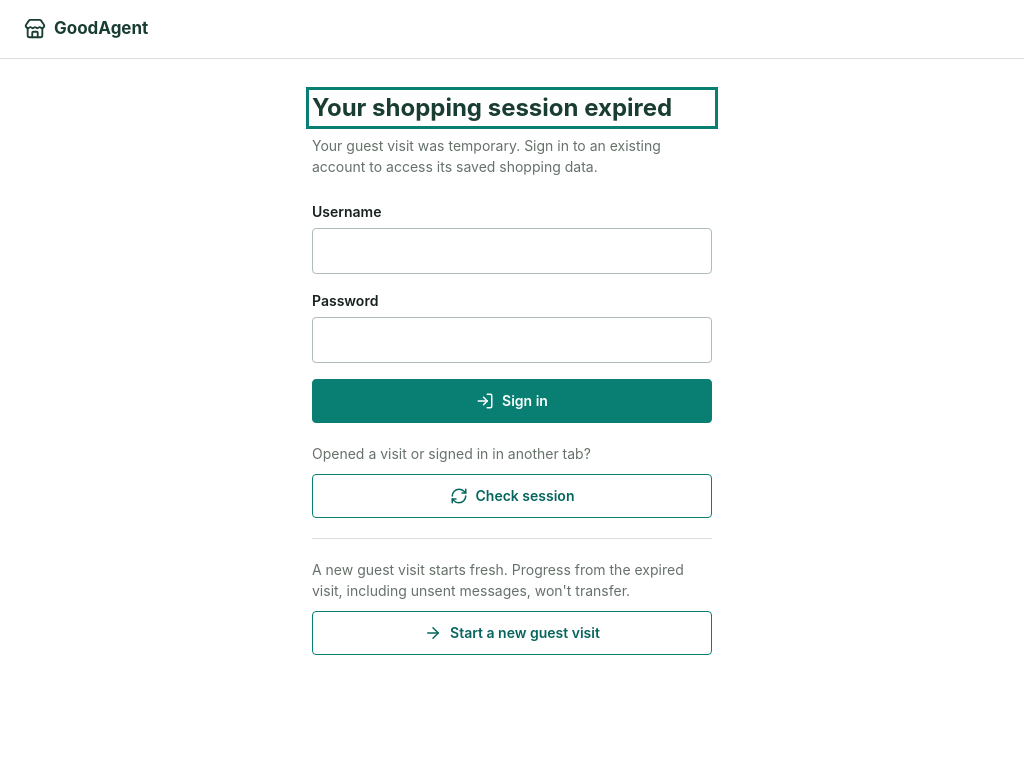
it: SessionRecovery › uses only the finite local conflict type, not message matching ({})
The image size is (1024, 768).
Click the button "Start a new guest visit": click(512, 633) [312,611,712,655]
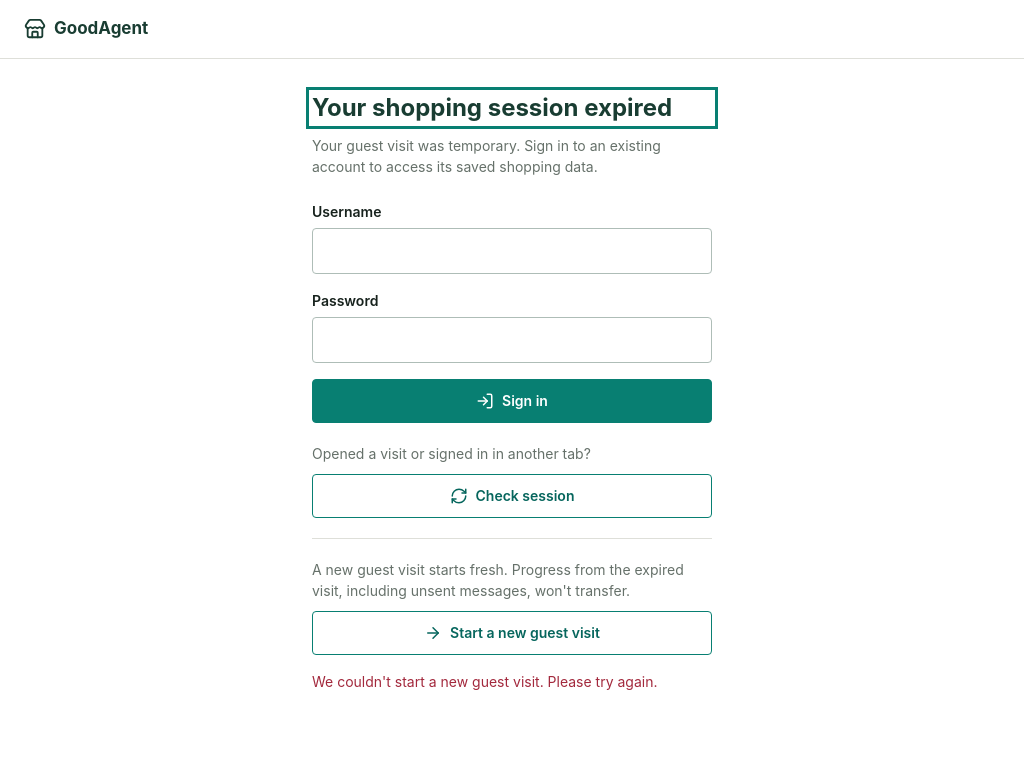
Expected: the message reads "We couldn't start a new guest visit. Please try again.", [312,673,658,690]
